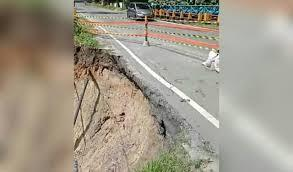Pothole: (69, 38, 186, 172)
